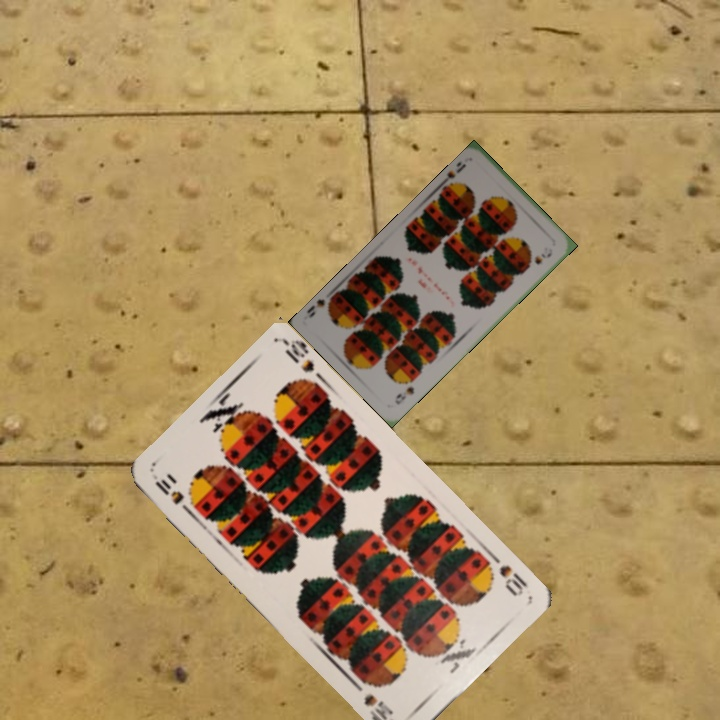S10: (481, 548, 530, 599), (150, 471, 196, 519)
S9: (441, 158, 468, 192), (391, 382, 417, 407)
